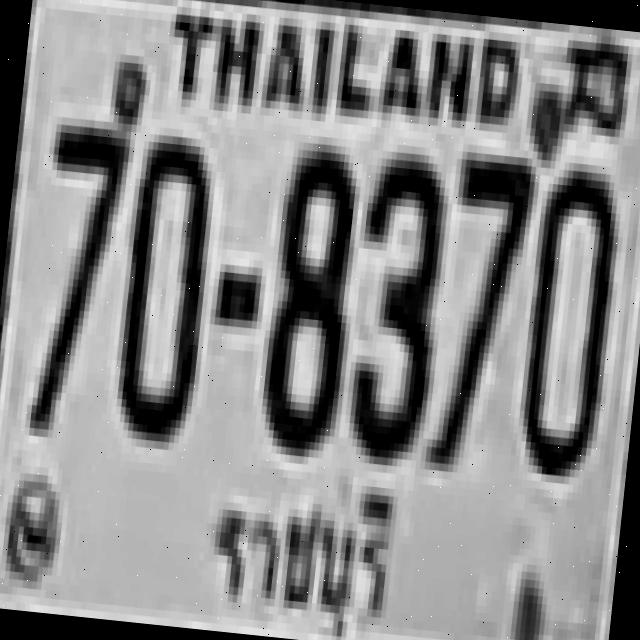0: (514, 160, 620, 471), (110, 125, 216, 436)
3: (337, 145, 448, 457)
7: (18, 116, 130, 434), (425, 143, 533, 469)
8: (253, 140, 359, 451)
Ratchaburi: (194, 464, 399, 640)
